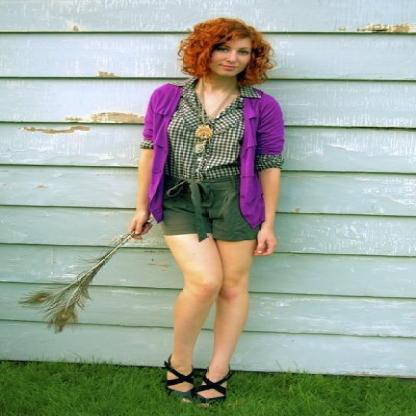jacket: (137, 77, 283, 231)
shirt: (160, 78, 283, 190)
shoe: (160, 358, 236, 401)
shorts: (160, 174, 261, 240)
